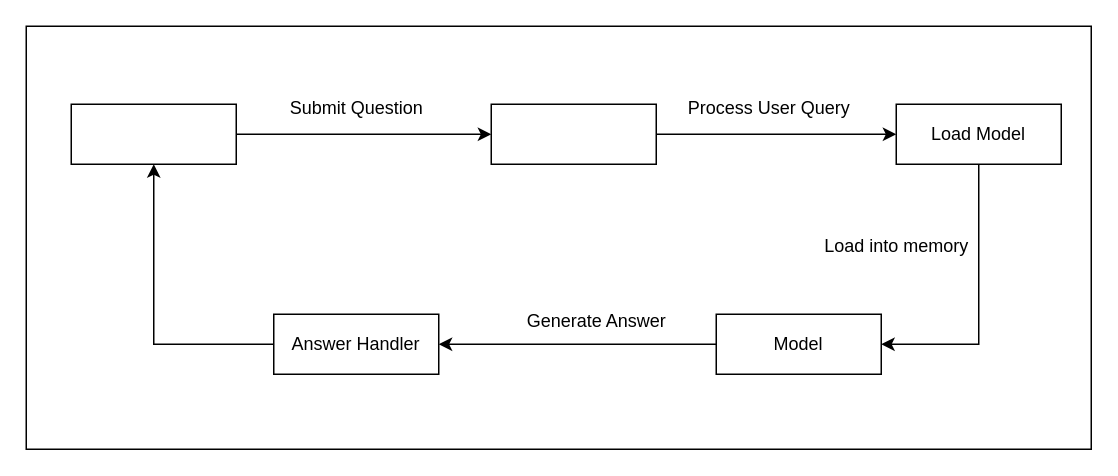
This 1118x476 diagram has some shape labels left out. Each missing label, with the centre of its shape:
"Ollama Chat" belongs at point 573,133.
"User" belongs at point 153,133.
